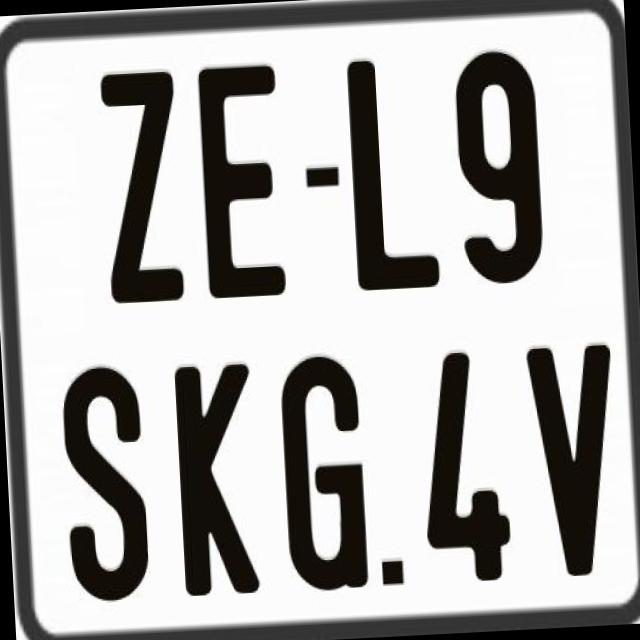4: (415, 346, 510, 584)
9: (453, 50, 547, 286)
E: (193, 59, 283, 304)
G: (275, 353, 365, 597)
K: (170, 362, 261, 598)
L: (345, 55, 441, 294)
S: (58, 360, 148, 602)
V: (524, 344, 620, 580)
Z: (99, 71, 188, 305)
